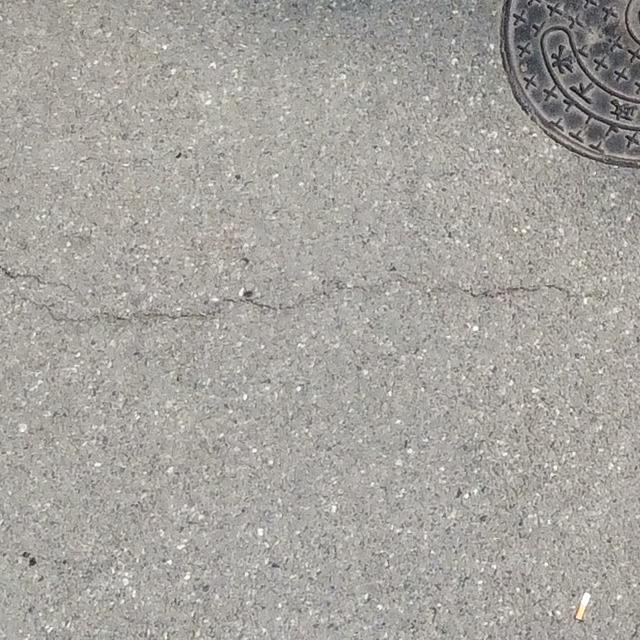TransverseCrack: (21, 273, 598, 328), (1, 266, 78, 291)
